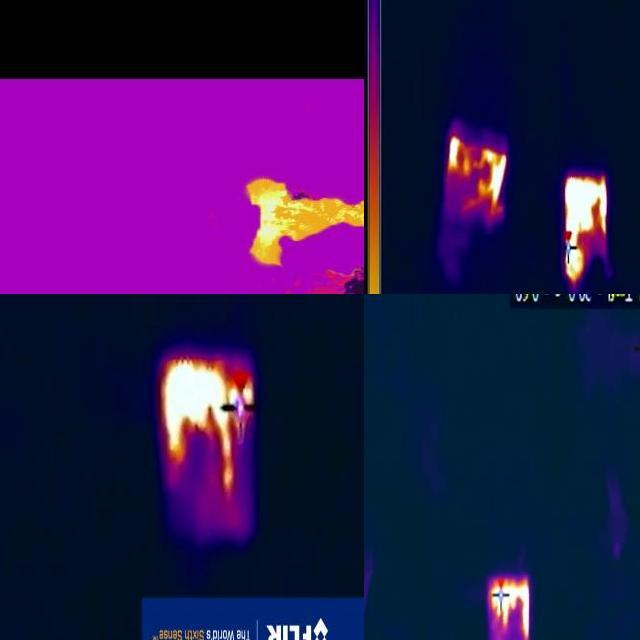fire: (158, 355, 257, 495), (246, 166, 365, 273), (559, 175, 609, 283), (440, 139, 509, 213), (489, 575, 533, 640)
